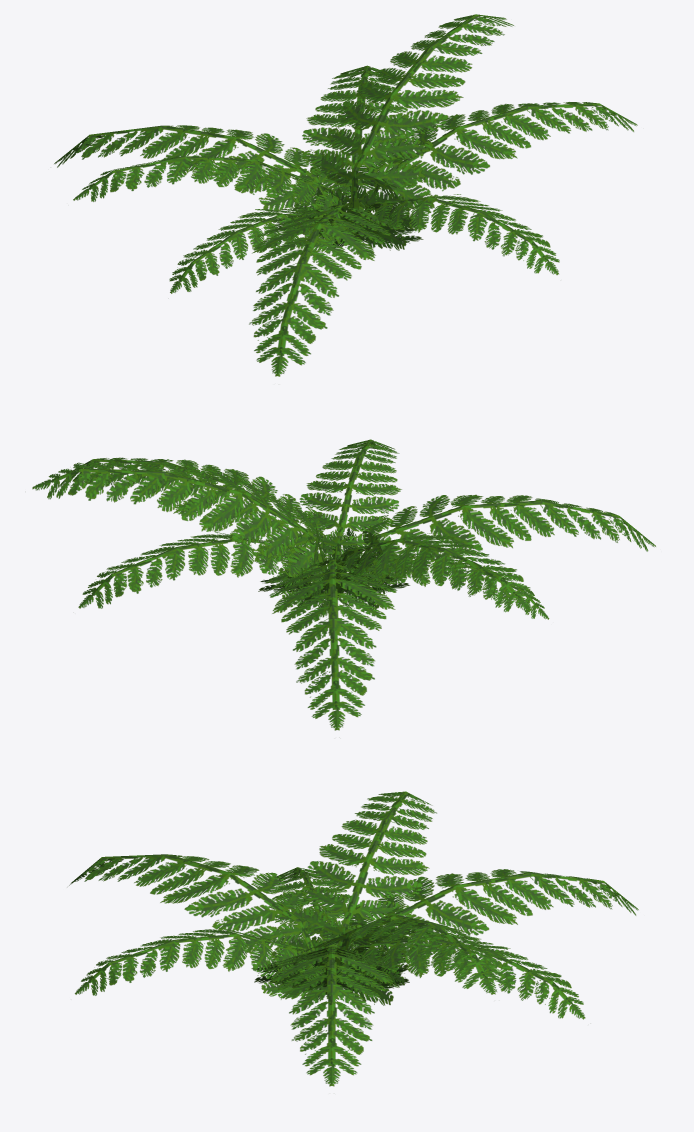
File: Farn_1.glb
3 views of the same model, one above another, from view 1: azimuth 30°, elevation 25°; view 2: azimuth 150°, elevation 25°; view 3: azimuth 270°, elevation 25° (orthographic). The views are drawn at different scales.
Visible parts, largest first — view 1: Farn_1; view 2: Farn_1; view 3: Farn_1.
Boxes of the visible parts, x1,y1,x2,y2 form: Farn_1: (54, 14, 637, 376); Farn_1: (32, 439, 655, 730); Farn_1: (69, 791, 638, 1086).
Bounding box in the file's own units: 1.39 × 0.375 × 1.4.
1 material, 1 textured.
